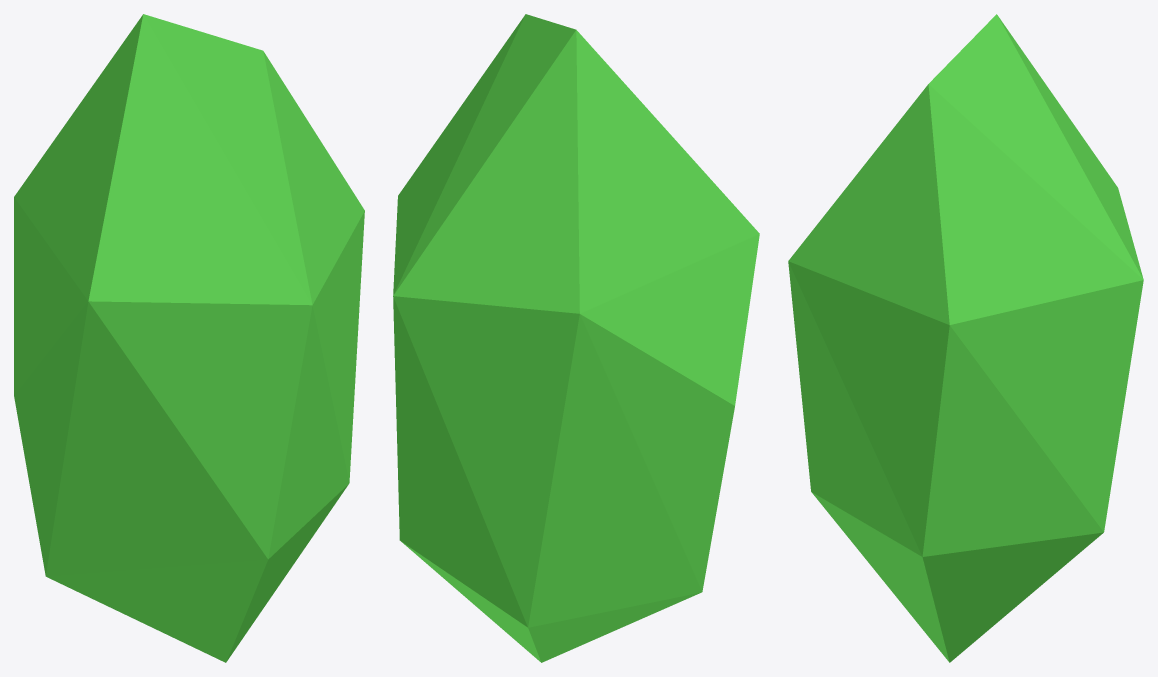
The model's file is FinalGem.fbx.
3 renders of one model, left to right at view 1: azimuth 30°, elevation 25°; view 2: azimuth 150°, elevation 25°; view 3: azimuth 270°, elevation 25°, orthographic. The views are drawn at different scales.
Parts seen in each view (by area): view 1: Icosphere; view 2: Icosphere; view 3: Icosphere.
Part boxes in pixels (x1,y1,x2,y2): Icosphere: [14, 14, 364, 662]; Icosphere: [393, 14, 759, 662]; Icosphere: [788, 14, 1143, 662].
Bounding box in the file's own units: 200 × 364 × 188.
